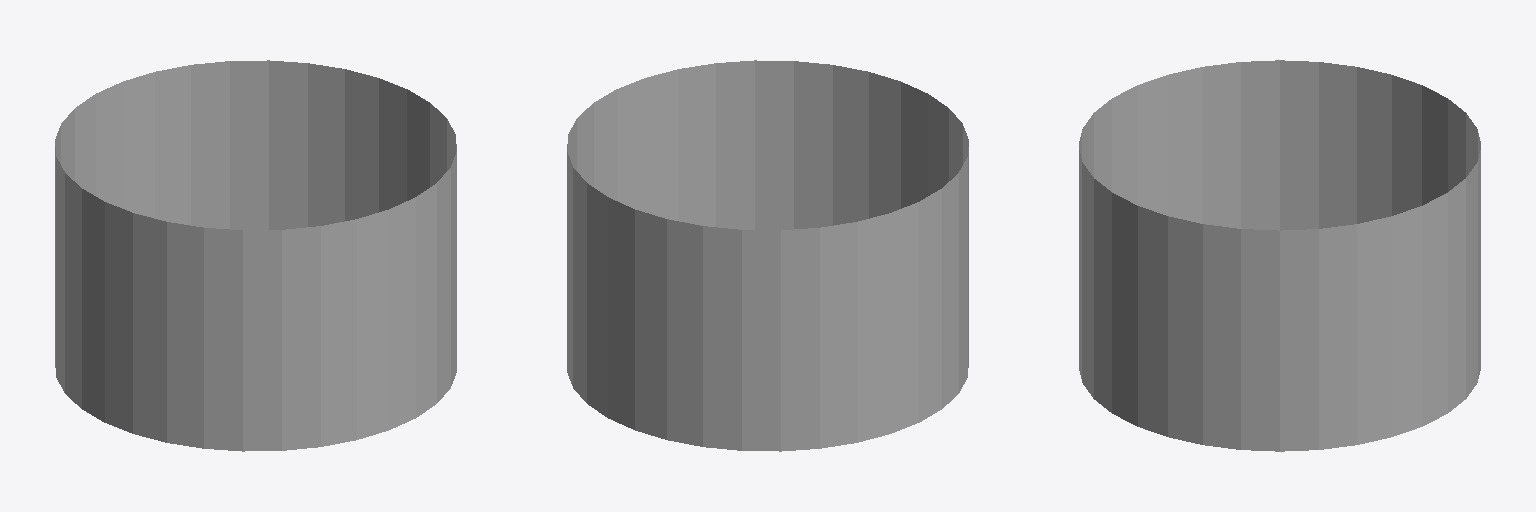
The model's file is Pan_Cylinder.001.obj.
3 views of the same model, side by side, from view 1: azimuth 30°, elevation 25°; view 2: azimuth 150°, elevation 25°; view 3: azimuth 270°, elevation 25° (orthographic).
Visible parts, largest first — view 1: Pan_Cylinder.001; view 2: Pan_Cylinder.001; view 3: Pan_Cylinder.001.
Boxes of the visible parts, x1,y1,x2,y2 form: Pan_Cylinder.001: [55, 60, 456, 451]; Pan_Cylinder.001: [567, 60, 968, 451]; Pan_Cylinder.001: [1079, 60, 1480, 451].
Size of the model in its own units: 2 by 1.21 by 2.